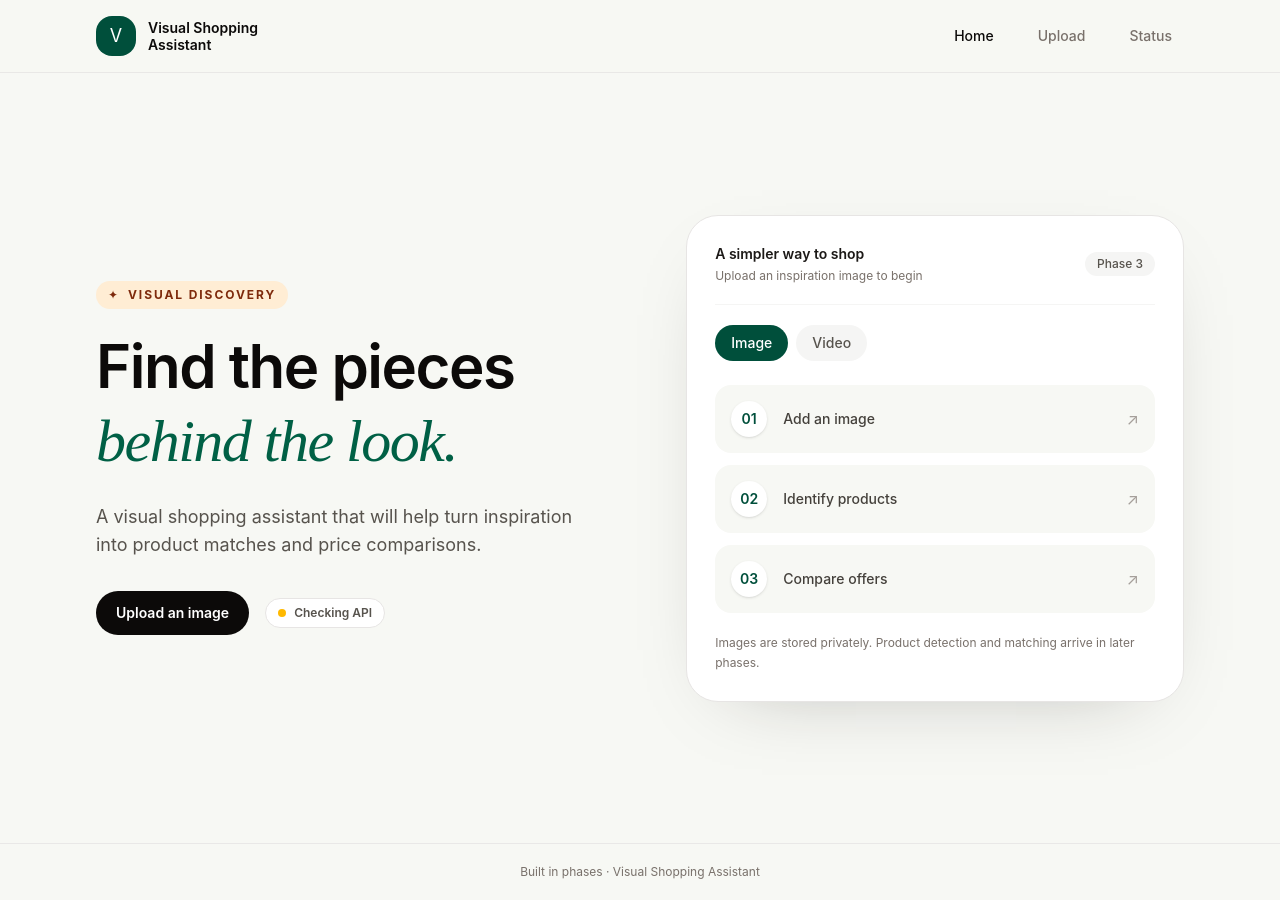
Test: application shell › navigates to the status route and displays health details
The image size is (1280, 900).
Click the link "Status": point(1151, 36) [1129,27,1172,44]
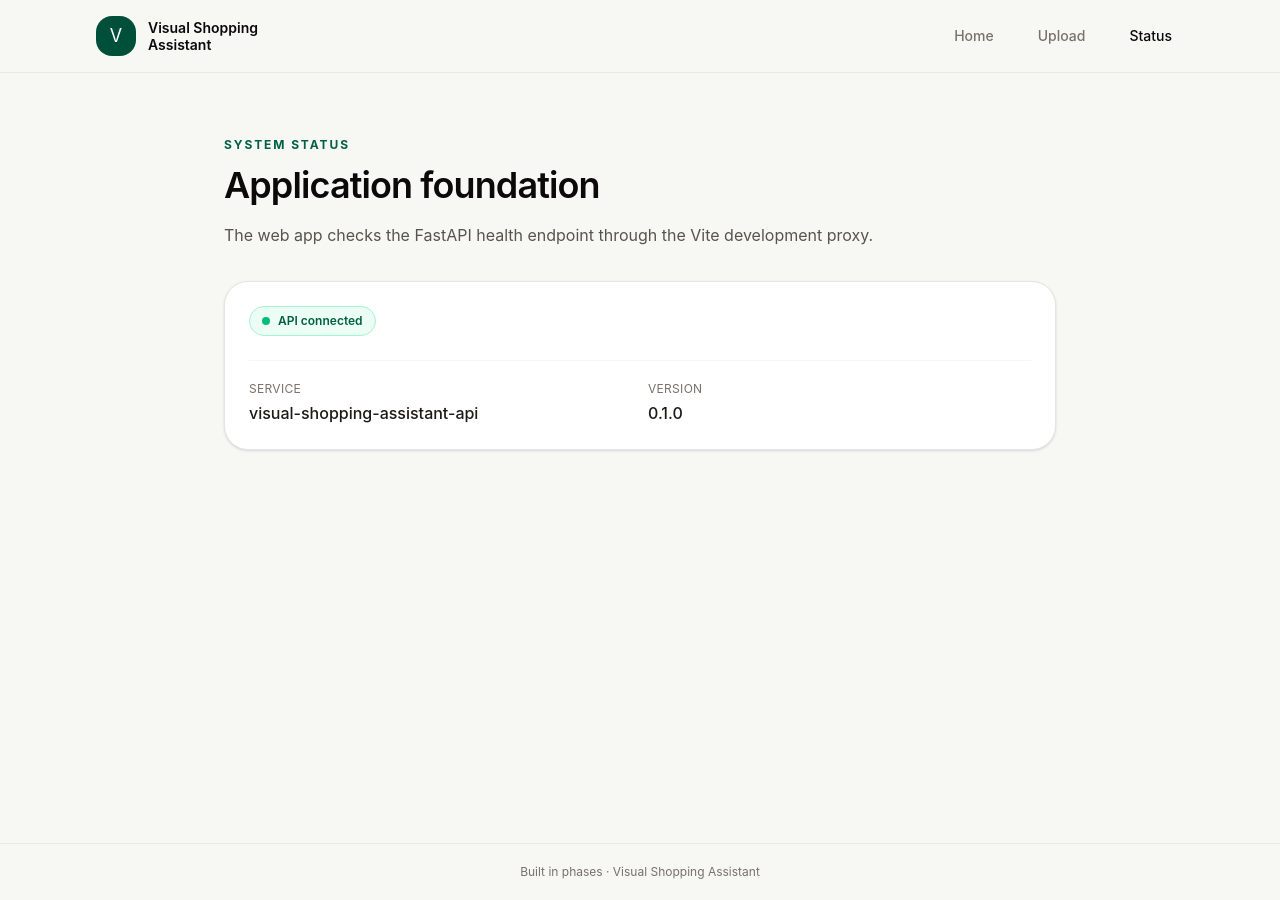
Expected: the heading "Application foundation" is shown, [224,163,600,207]
Expected: the text "visual-shopping-assistant-api" is shown, [249,403,478,423]
Expected: the text "0.1.0" is shown, [648,403,683,423]
